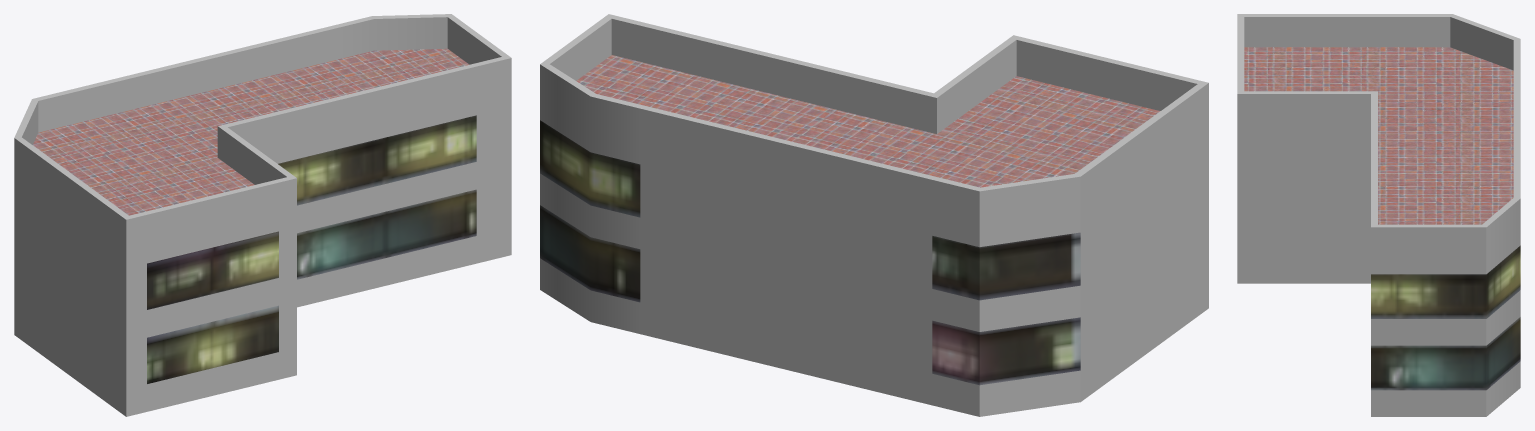
Rendered from hirise_parts04_2f.fbx.
The picture shows the model from 3 angles, left to right: view 1: azimuth 30°, elevation 25°; view 2: azimuth 150°, elevation 25°; view 3: azimuth 270°, elevation 25°; orthographic projection. The views are drawn at different scales.
Visible parts, largest first — view 1: hirise_parts04_2f; view 2: hirise_parts04_2f; view 3: hirise_parts04_2f.
Boxes of the visible parts, <box> form: hirise_parts04_2f: <box>14,14,511,416</box>; hirise_parts04_2f: <box>540,14,1208,416</box>; hirise_parts04_2f: <box>1237,14,1520,416</box>.
Size of the model in its own units: 19.87 by 8.23 by 11.15.
